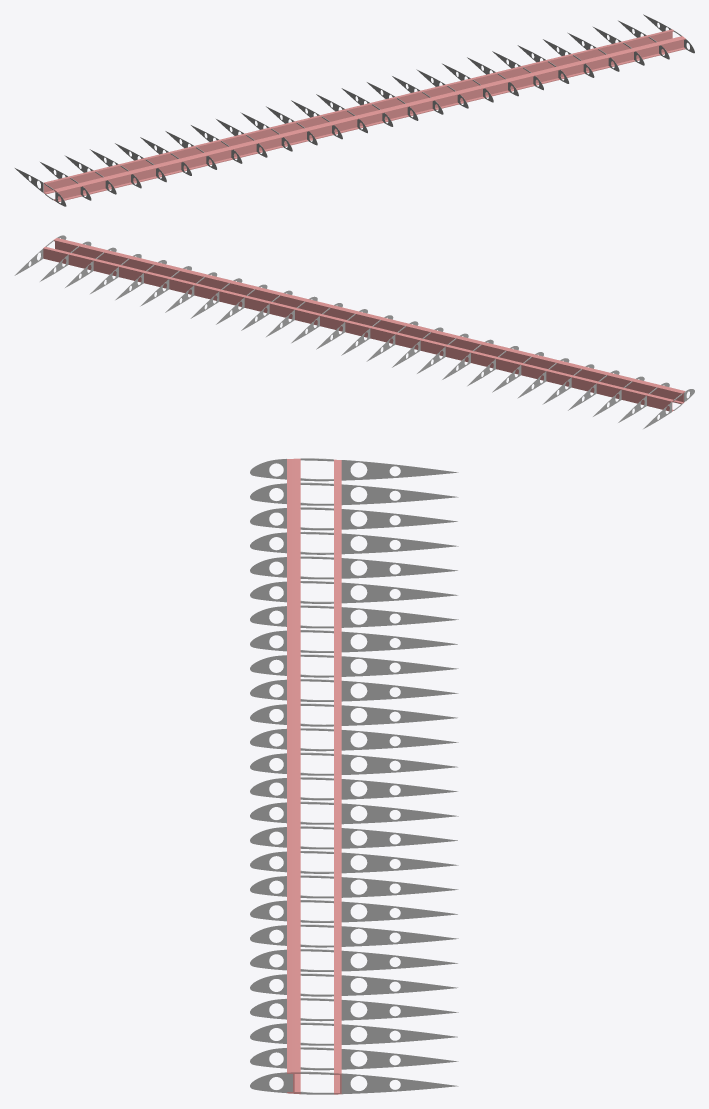
File: wing.glb
The picture shows the model from 3 angles, top to bottom: view 1: azimuth 30°, elevation 25°; view 2: azimuth 150°, elevation 25°; view 3: azimuth 270°, elevation 25°; orthographic projection. The views are drawn at different scales.
Parts seen in each view (by area): view 1: main_spar (1) (1), secondary_spar (1) (1); view 2: main_spar (1) (1), secondary_spar (1) (1); view 3: main_spar (1) (1), secondary_spar (1) (1), Body91, Body100, Body104, Body80, Body82, Body93, Body95, Body102, Body86, Body98 (+16 smaller).
Boxes of the visible parts, x1,y1,x2,y2 form: main_spar (1) (1): (54, 36, 685, 201); secondary_spar (1) (1): (43, 29, 673, 194); main_spar (1) (1): (54, 238, 685, 403); secondary_spar (1) (1): (43, 246, 673, 411); main_spar (1) (1): (287, 458, 300, 1094); secondary_spar (1) (1): (334, 459, 341, 1094); Body91: (341, 779, 458, 799); Body100: (341, 558, 457, 578); Body104: (341, 460, 458, 480); Body80: (341, 1049, 458, 1069); Body82: (341, 999, 458, 1020); Body93: (341, 730, 458, 750); Body95: (341, 680, 458, 701); Body102: (341, 509, 457, 529); Body86: (341, 901, 457, 922); Body98: (341, 607, 458, 627).
Bounding box in the file's own units: 26.02 × 0.4457 × 3.74.
